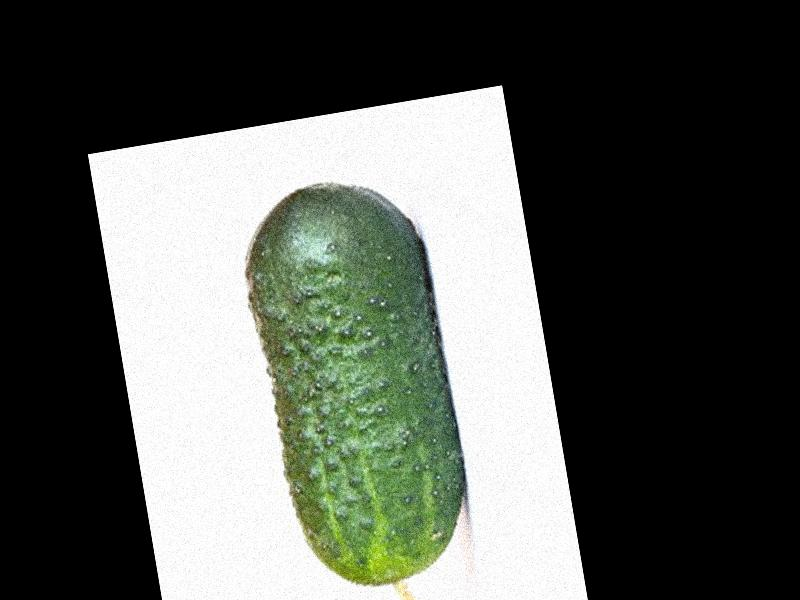Cucumber: (234, 172, 486, 600)
